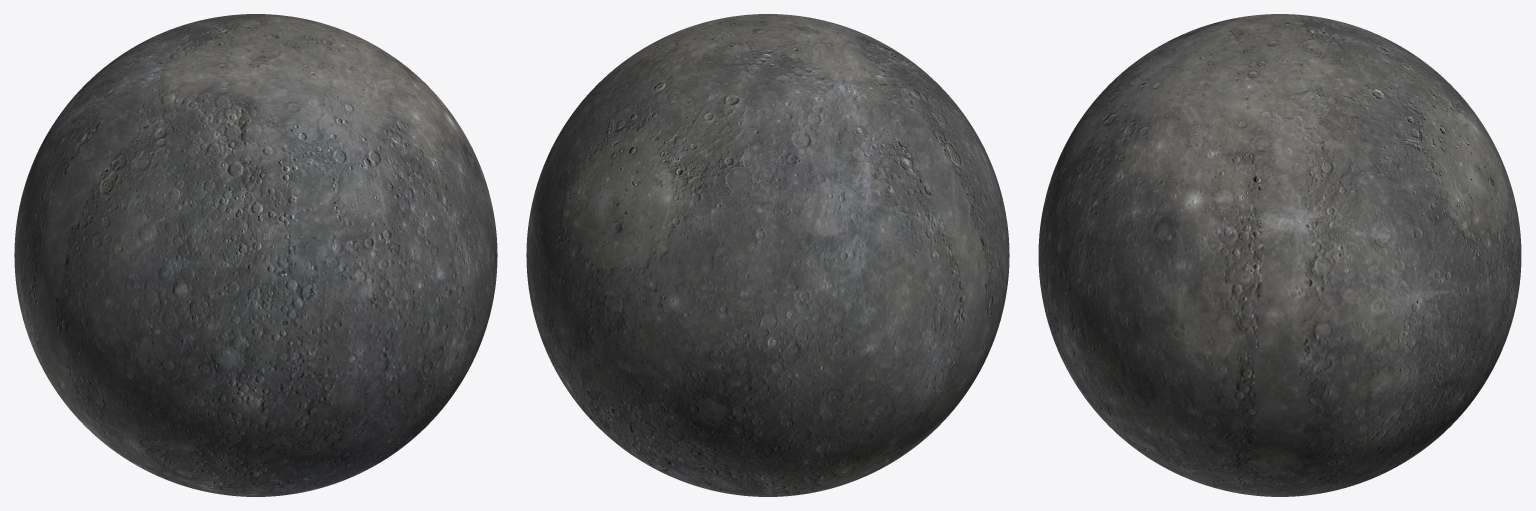
The model's file is mercury.glb.
The picture shows the model from 3 angles, left to right: view 1: azimuth 30°, elevation 25°; view 2: azimuth 150°, elevation 25°; view 3: azimuth 270°, elevation 25°; orthographic projection.
Parts seen in each view (by area): view 1: mercury_globe; view 2: mercury_globe; view 3: mercury_globe.
Part boxes in pixels (bbox=[...]): mercury_globe: bbox=[14, 14, 497, 496]; mercury_globe: bbox=[526, 14, 1009, 496]; mercury_globe: bbox=[1038, 14, 1521, 496].
Size of the model in its own units: 2 by 2 by 2.
1 material, 1 textured.
